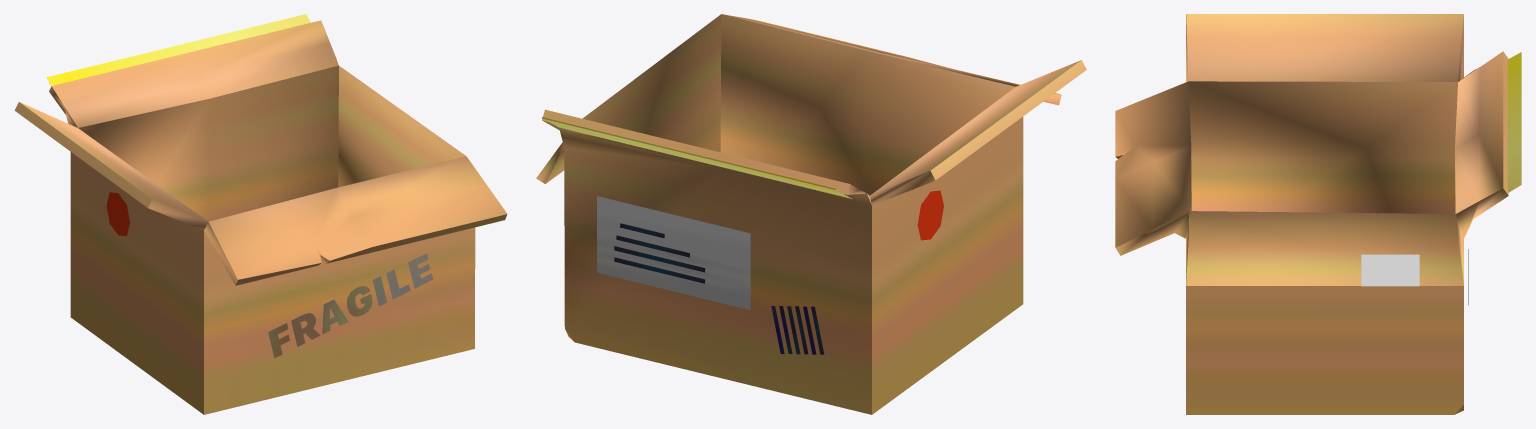
File: Box_Wearable.glb
3 renders of one model, left to right at view 1: azimuth 30°, elevation 25°; view 2: azimuth 150°, elevation 25°; view 3: azimuth 270°, elevation 25°, orthographic. The views are drawn at different scales.
Visible parts, largest first — view 1: box.002; view 2: box.002; view 3: box.002.
Boxes of the visible parts, x1,y1,x2,y2 form: box.002: (14, 14, 507, 414); box.002: (536, 14, 1086, 414); box.002: (1115, 14, 1521, 414).
Size of the model in its own units: 0.4107 by 0.2538 by 0.3937.
1 material, 1 textured.
